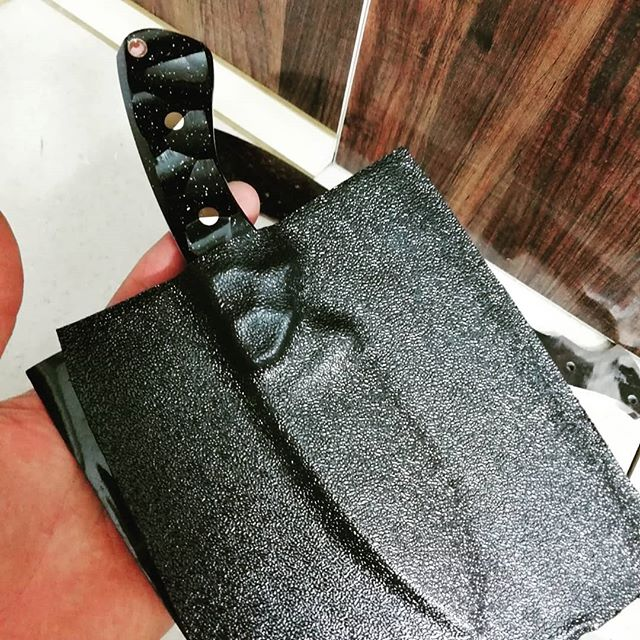knife: (116, 27, 486, 636)
